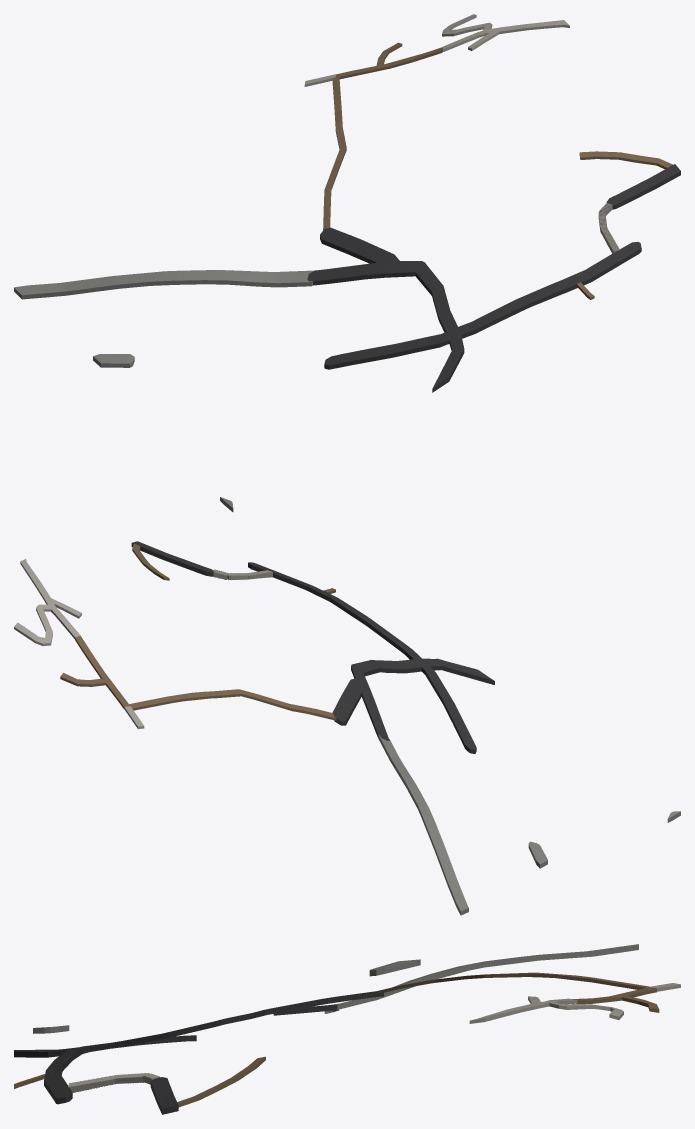
3 views of the same model, one above another, from view 1: azimuth 30°, elevation 25°; view 2: azimuth 150°, elevation 25°; view 3: azimuth 270°, elevation 25° (orthographic). The views are drawn at different scales.
Bounding box in the file's own units: 147 × 71.55 × 124.
